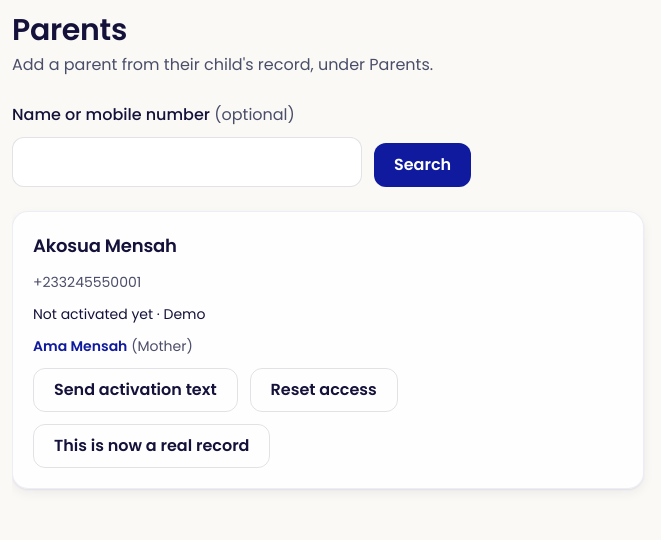
Scenario: ParentsView › sends the activation text and turns a demo record real
Click the button "Send activation text". click: [135, 390]
box: x1=33 y1=368 x2=238 y2=412
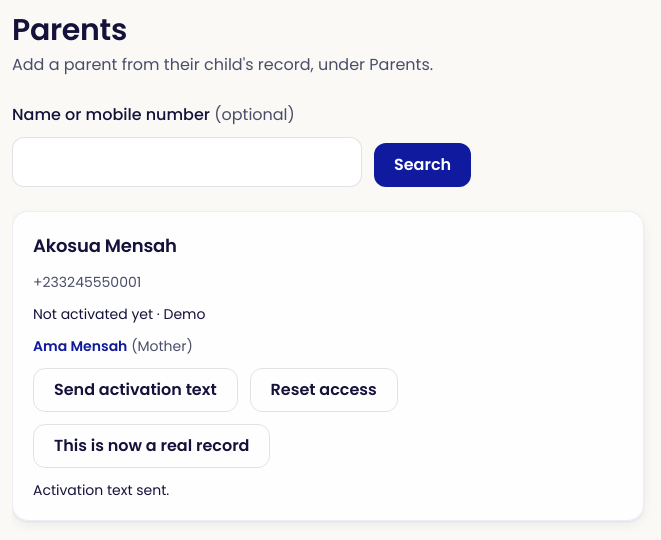
Check: the message reads "Activation text sent.", box x1=33 y1=480 x2=169 y2=500
Click the button "This is now a real record". click: [152, 446]
box: x1=33 y1=424 x2=270 y2=468
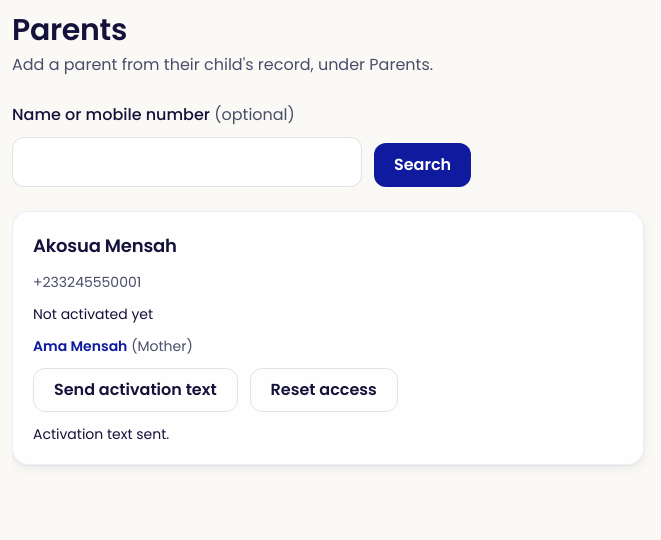
Check: the element "Akosua Mensah" is shown, box x1=12 y1=211 x2=644 y2=465
Check: the button "This is now a real record" is gone
